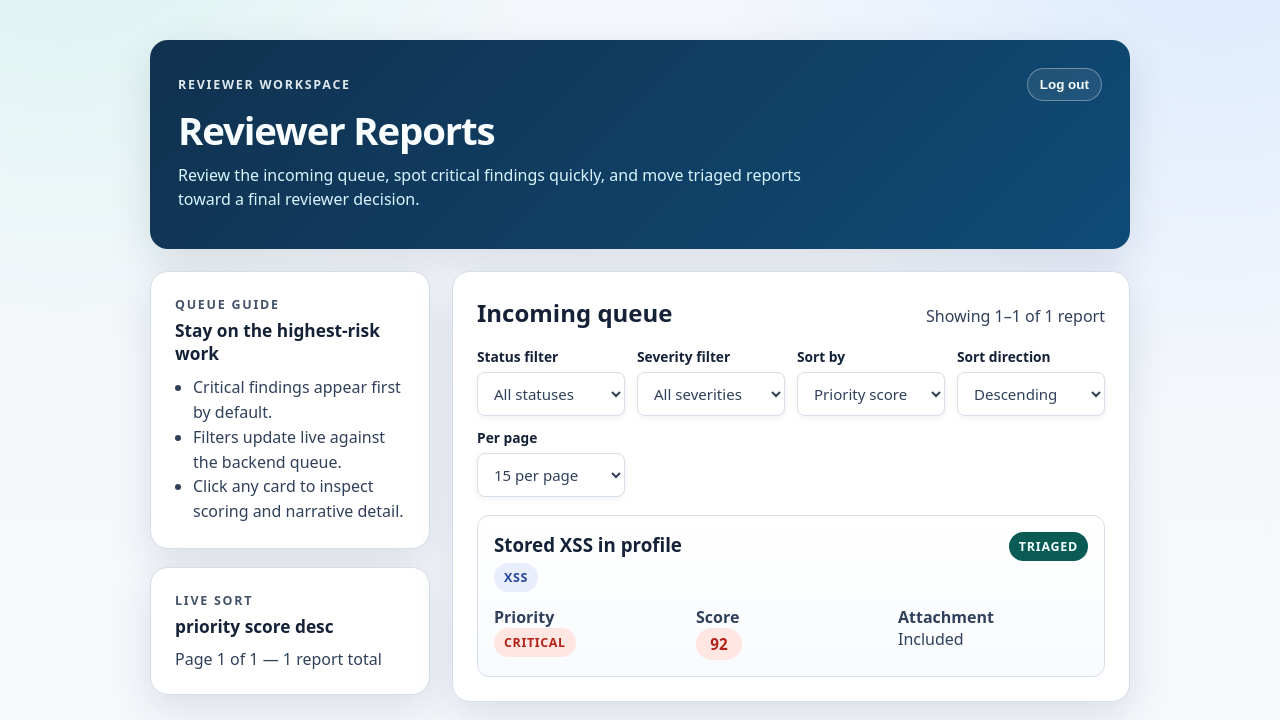
Test case: ReviewerReportsPage › refetches the queue when reviewer filter controls change
Expected: the heading "Stored XSS in profile" is shown, [494,532,682,557]
Select "Submitted" in the dropdown labelled "Status filter": coordinates (551, 394) [477,372,625,416]
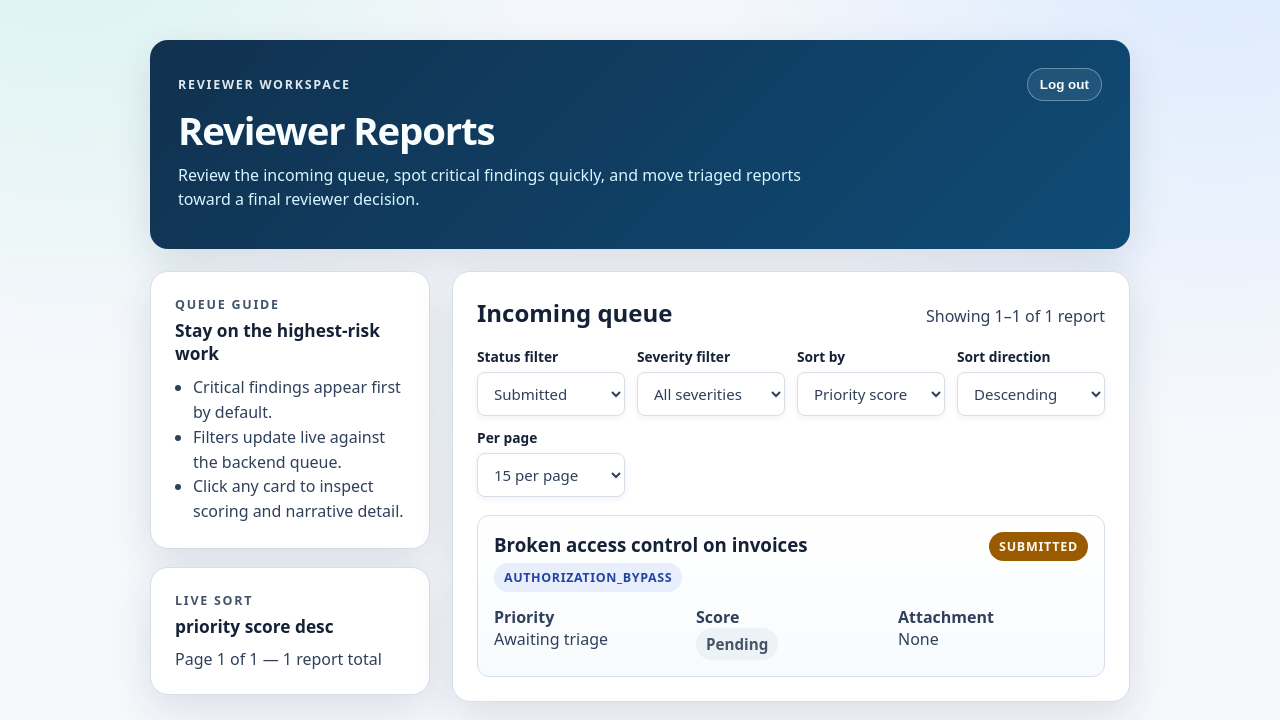
Result: the heading "Broken access control on invoices" is shown at [494,532,808,557]
